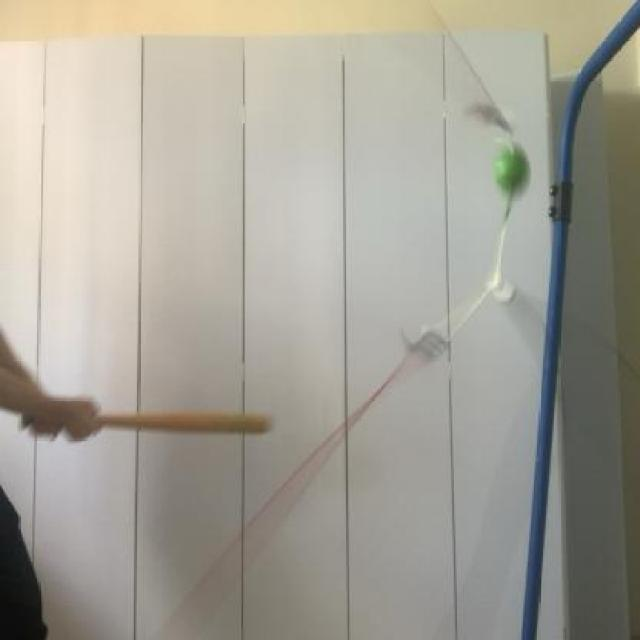baseball: (494, 139, 538, 207)
